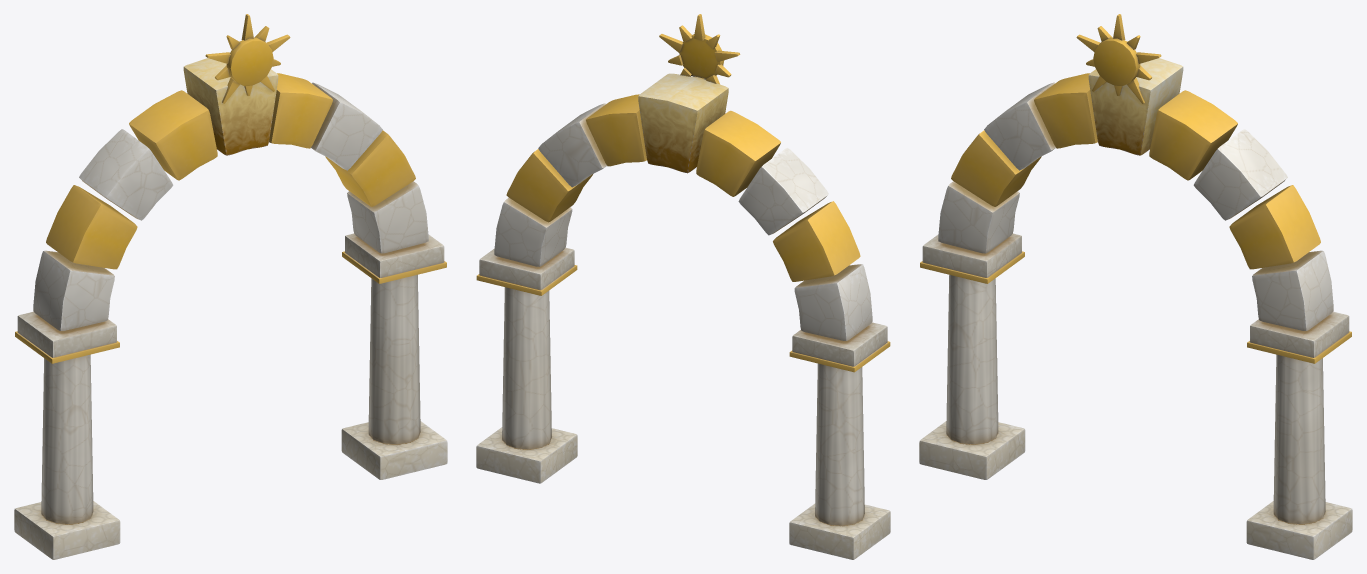
File: Divin_PorteCeleste.fbx
3 renders of one model, left to right at view 1: azimuth 30°, elevation 25°; view 2: azimuth 150°, elevation 25°; view 3: azimuth 330°, elevation 25°, orthographic. The views are drawn at different scales.
Parts seen in each view (by area): view 1: Divin_PorteCeleste; view 2: Divin_PorteCeleste; view 3: Divin_PorteCeleste.
Boxes of the visible parts, box(x1,y1,x2,y2) form: Divin_PorteCeleste: box(14, 14, 447, 559); Divin_PorteCeleste: box(476, 14, 890, 559); Divin_PorteCeleste: box(919, 14, 1352, 559).
Size of the model in its own units: 2560 by 3070 by 473.
1 material, 1 textured.
